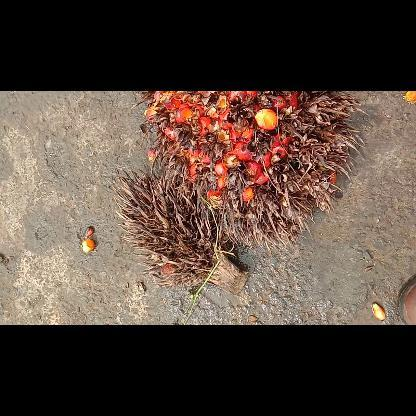Janjang kosong: (114, 169, 246, 293)
Terlalu masak: (132, 90, 364, 250)
